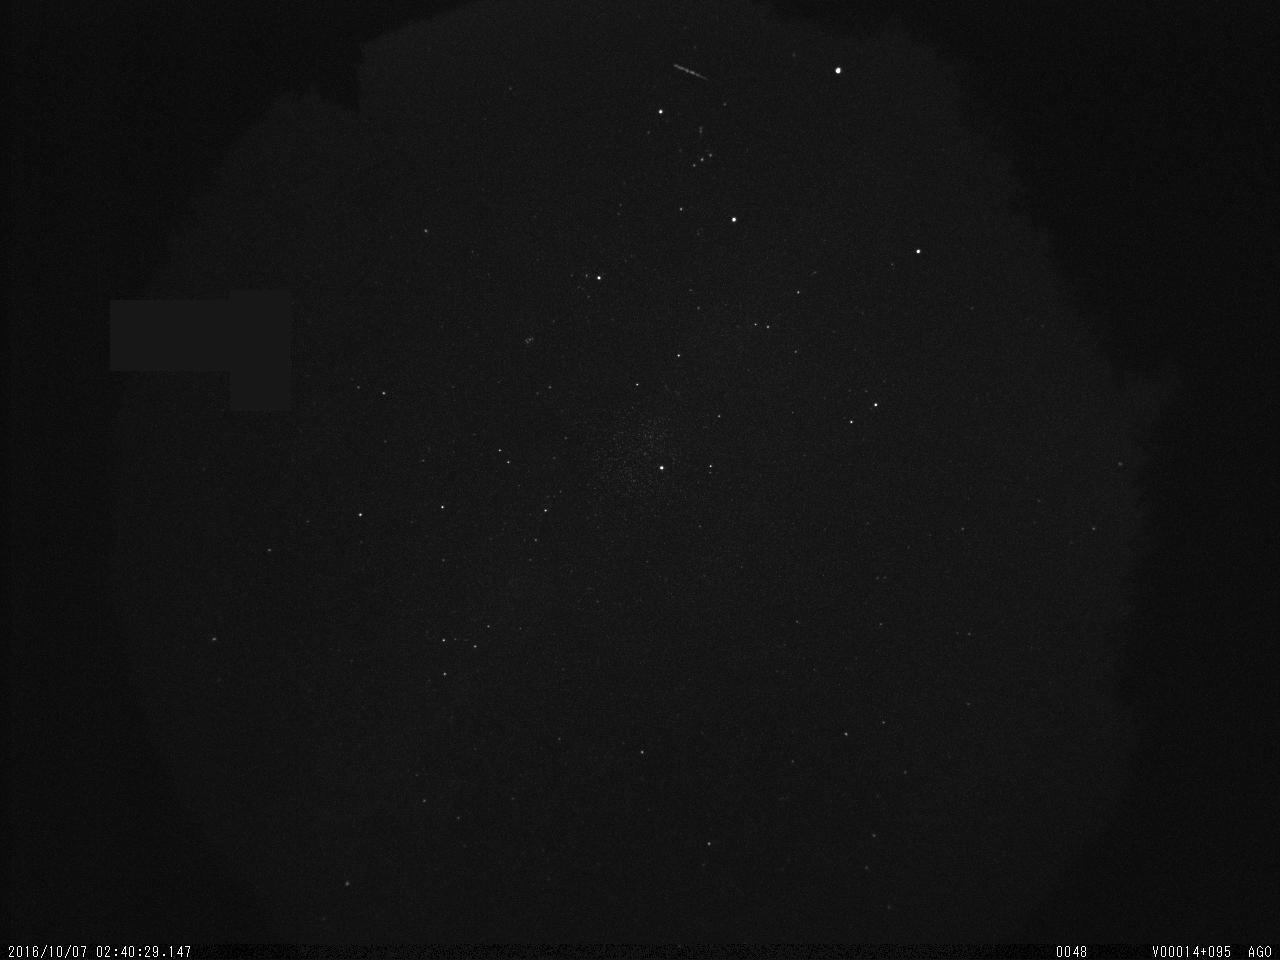meteor: (666, 53, 720, 94)
